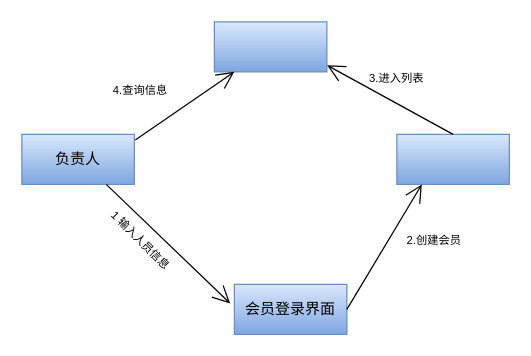
The diagram is 531 pixels wide and 356 high, and some of its shapes have lost their labels. Here are the shapes that lost their labels. From the top down, the centre of each, then its label:
At (270,46): "会员列表".
At (452,158): "会员".
